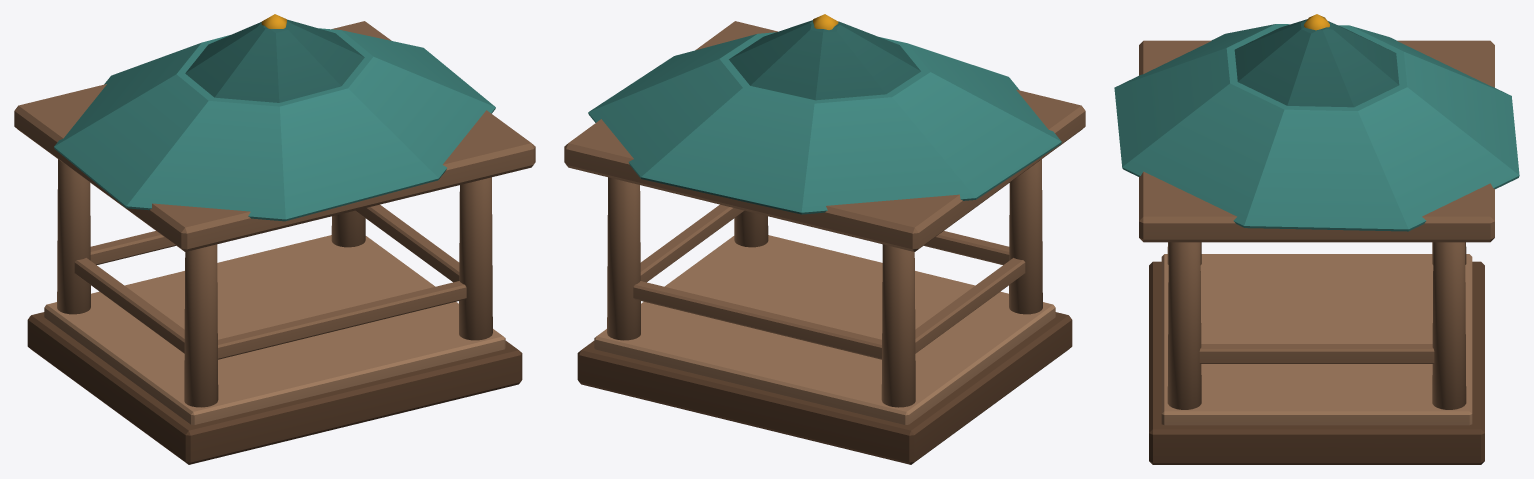
The model's file is lake-pavilion.glb.
The picture shows the model from 3 angles, left to right: view 1: azimuth 30°, elevation 25°; view 2: azimuth 150°, elevation 25°; view 3: azimuth 270°, elevation 25°; orthographic projection. The views are drawn at different scales.
Visible parts, largest first — view 1: lake-pavilion; view 2: lake-pavilion; view 3: lake-pavilion.
Boxes of the visible parts, bbox=[...] form: lake-pavilion: bbox=[14, 14, 535, 464]; lake-pavilion: bbox=[564, 14, 1085, 464]; lake-pavilion: bbox=[1114, 14, 1519, 464].
Bounding box in the file's own units: 1.6 × 1.4 × 1.4.
